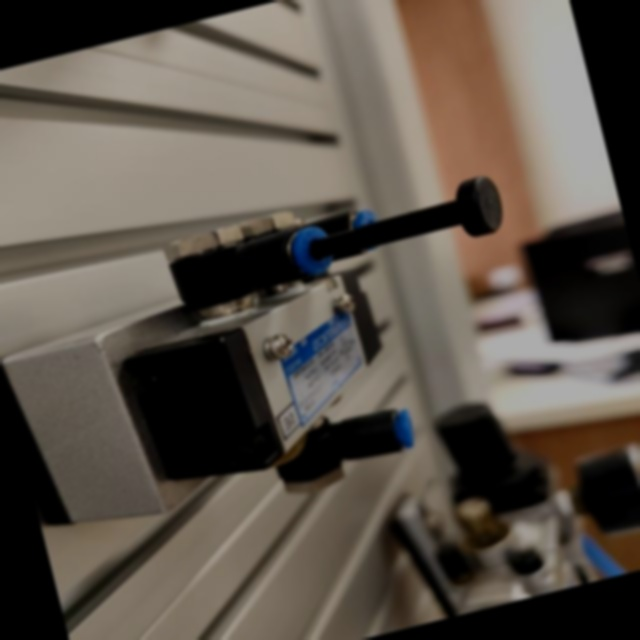5by2 DCV: (0, 140, 572, 568)
